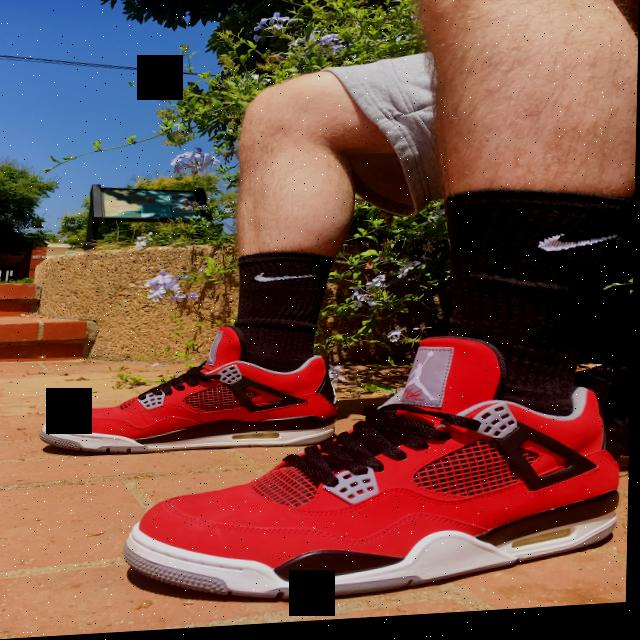shoes: (135, 333, 634, 628), (45, 307, 366, 484)
